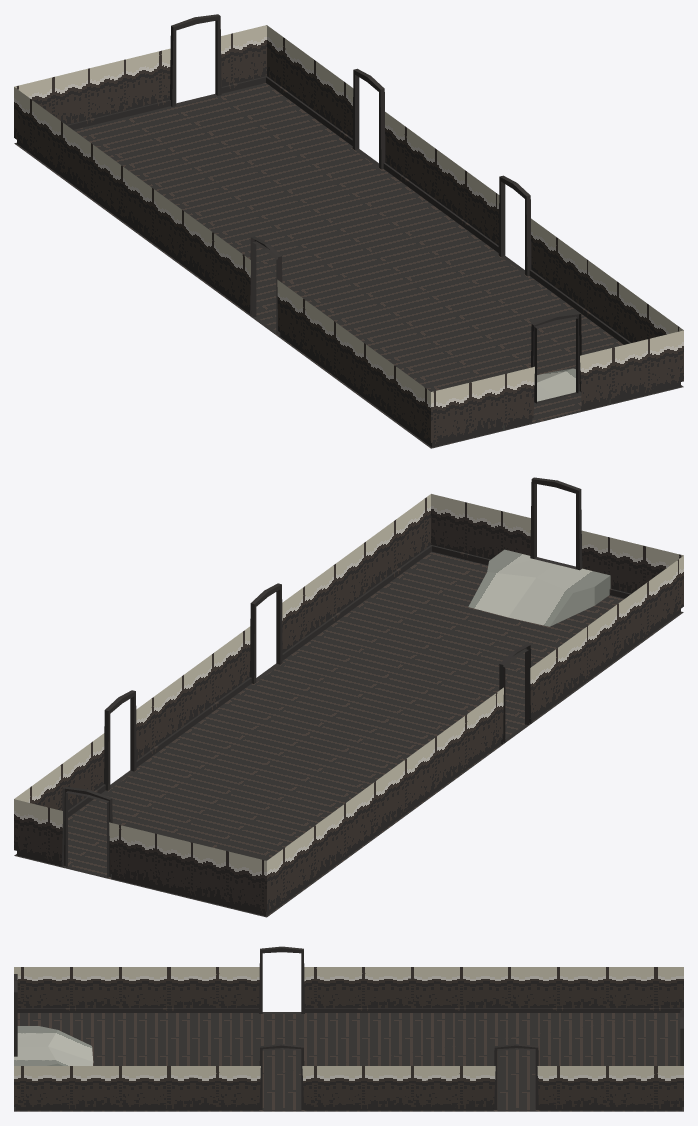
Rendered from Hall.obj.
The picture shows the model from 3 angles, top to bottom: view 1: azimuth 30°, elevation 25°; view 2: azimuth 150°, elevation 25°; view 3: azimuth 270°, elevation 25°; orthographic projection. The views are drawn at different scales.
Visible parts, largest first — view 1: Hall_Plane.013; view 2: Hall_Plane.013; view 3: Hall_Plane.013.
Part boxes in pixels (<box>): Hall_Plane.013: <box>14,14,683,448</box>; Hall_Plane.013: <box>14,477,683,917</box>; Hall_Plane.013: <box>14,946,683,1111</box>.
Size of the model in its own units: 7 by 2.67 by 20.
